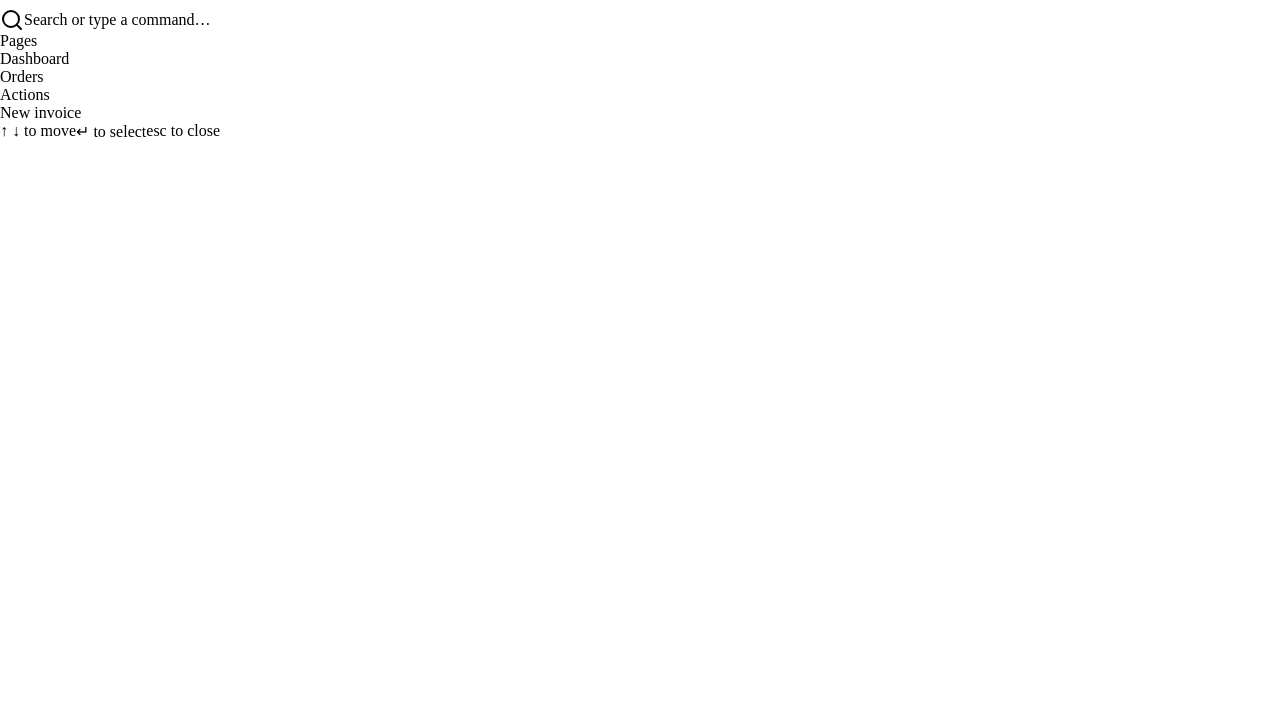
Scenario: CommandMenu › says when nothing matches
Type "zzz" into the dropdown at (652, 20), box [24,11,1279,29]
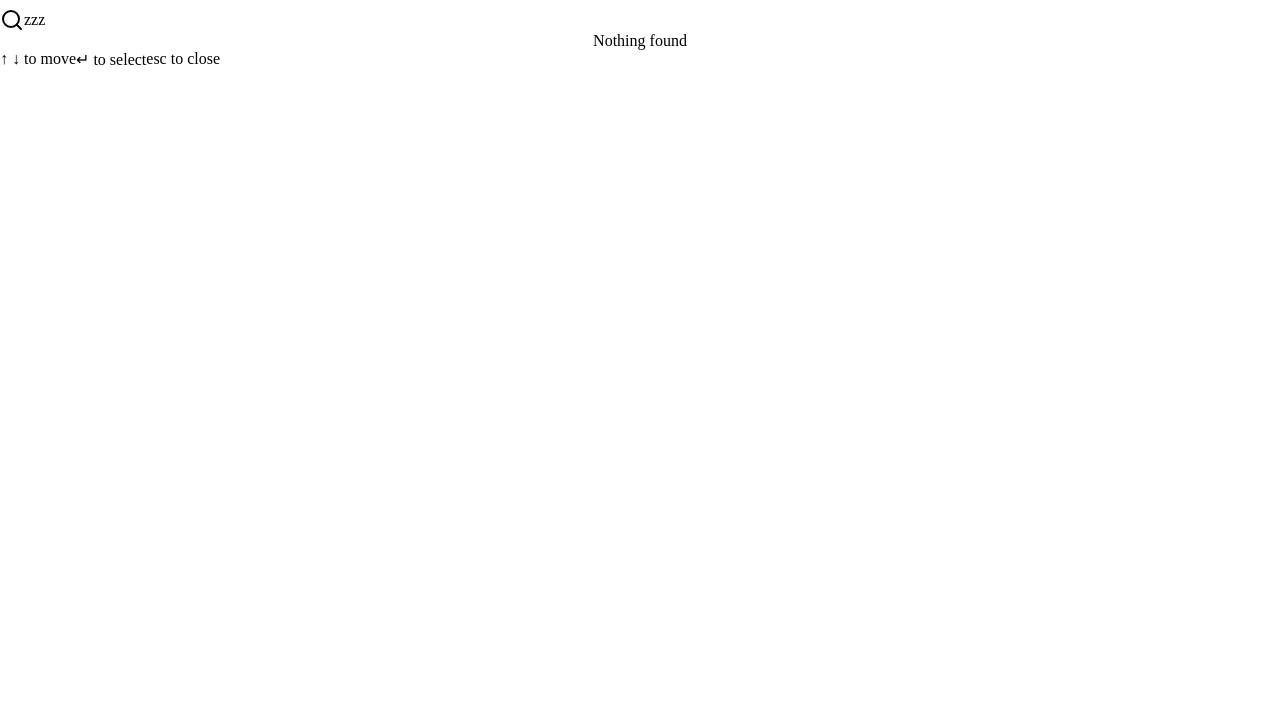
Expected: the text "Nothing found" is shown, [593,32,687,49]
